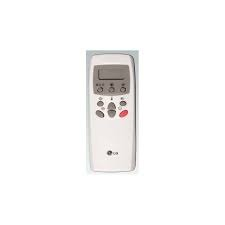remote control: (85, 50, 139, 172)
